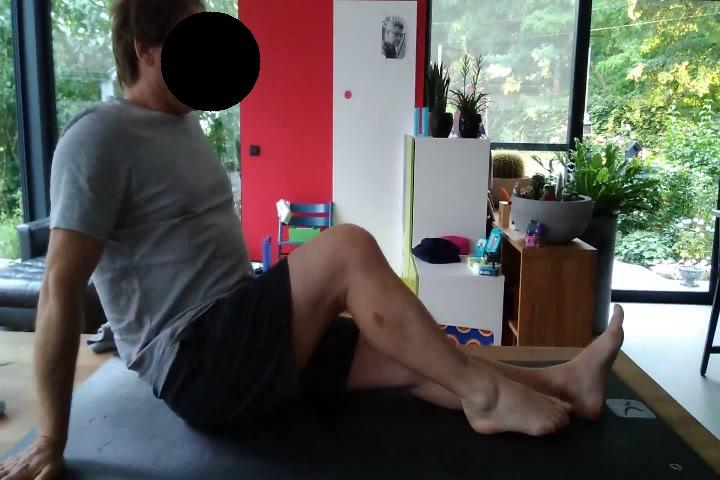lower_body: (161, 220, 626, 443)
